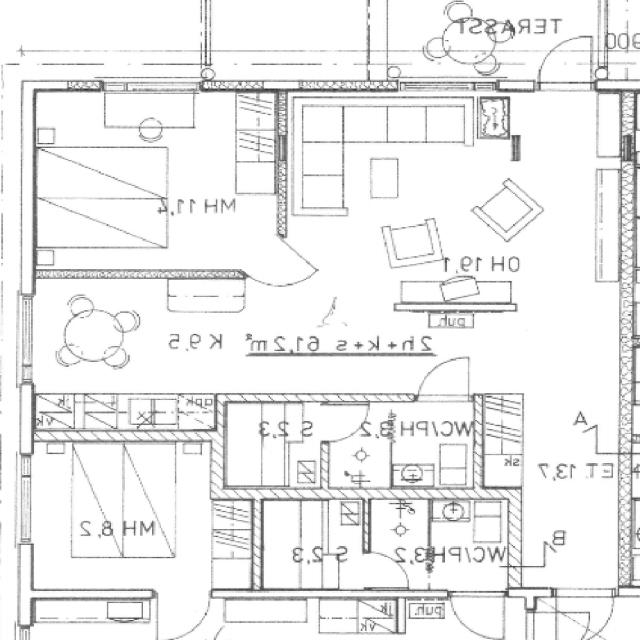door: (241, 235, 321, 306), (556, 588, 614, 640), (540, 34, 592, 90), (419, 350, 469, 402), (320, 404, 371, 441)
